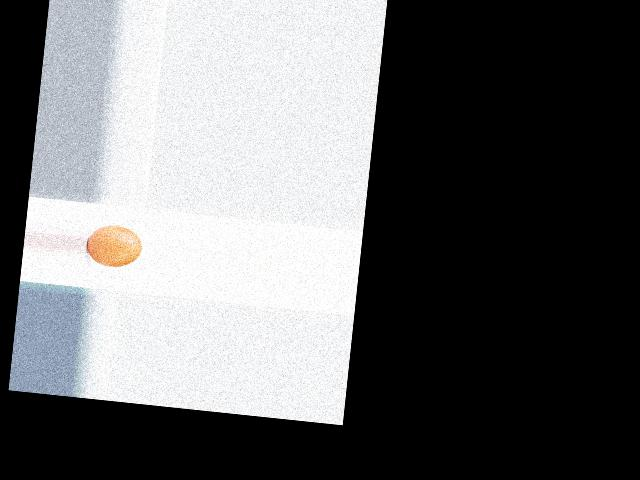egg: (85, 223, 143, 270)
